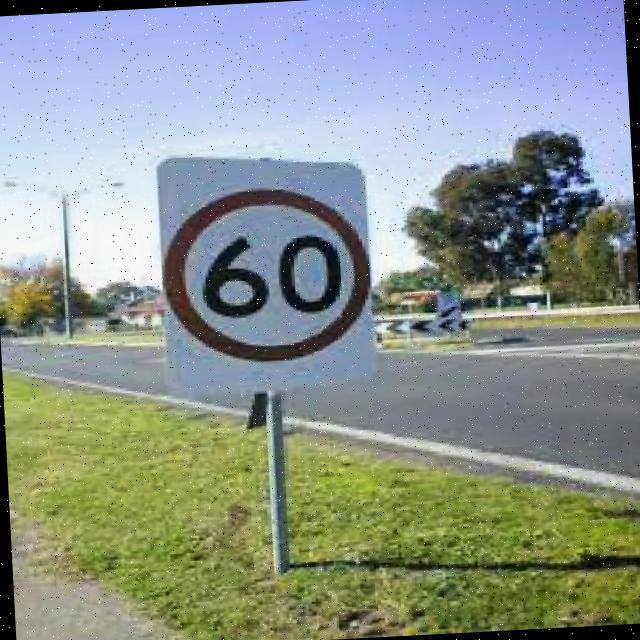Ograniczenie predkosci do 60: (156, 177, 384, 374)
